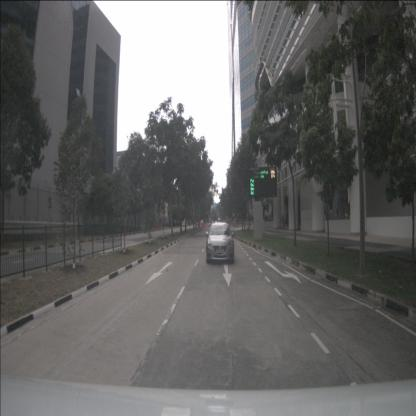human-pedestrian-adult: (281, 213, 285, 231)
vehicle-car: (206, 222, 234, 263)
